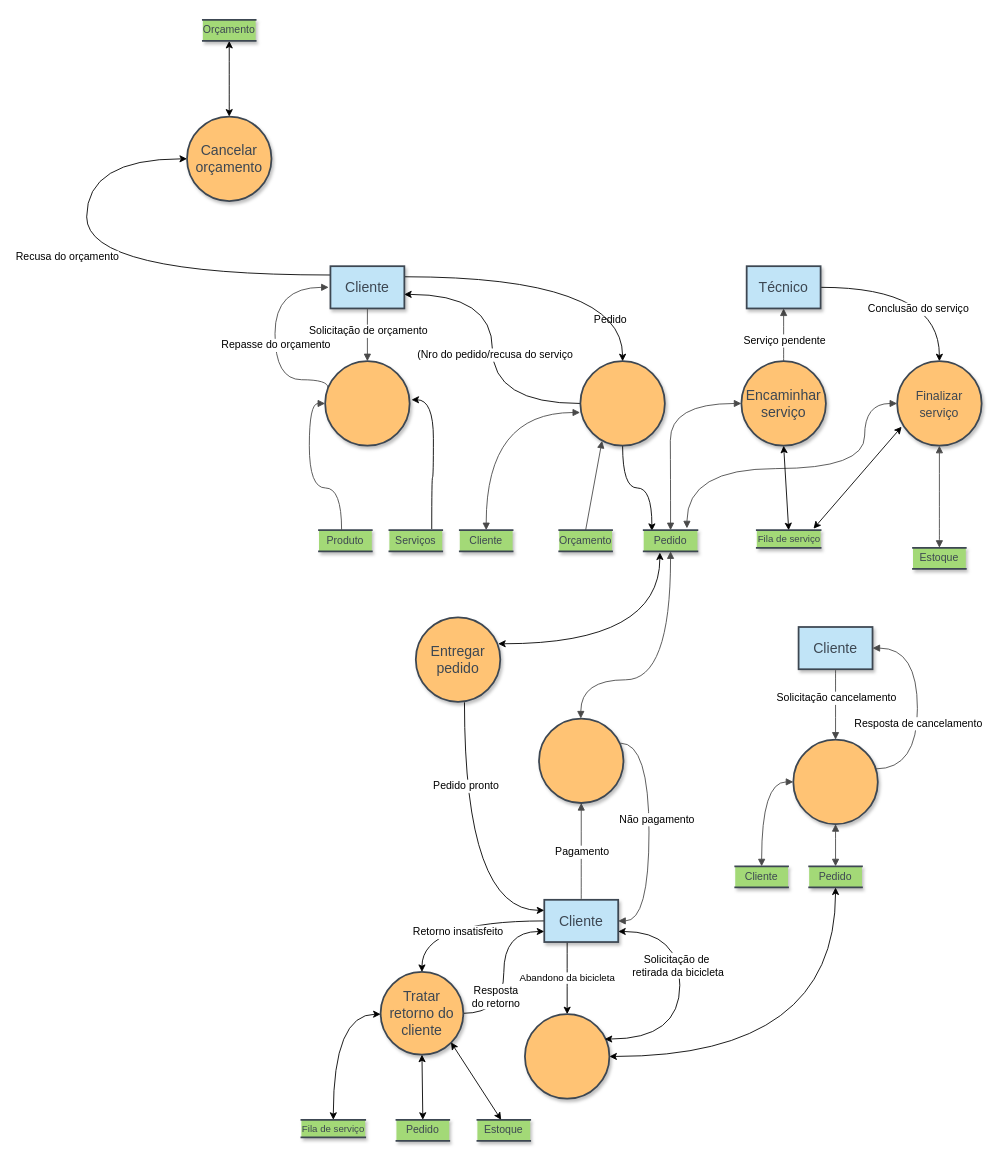
This 1002x1162 diagram has some shape labels left out. Each missing label, with the centre of its shape:
Anotar pedido: point (623, 404)
Cancelar pedido: point (836, 783)
Gerar orçamento: point (367, 404)
Guardar bicicleta: point (567, 1057)
Registrar pagamento: point (581, 762)
